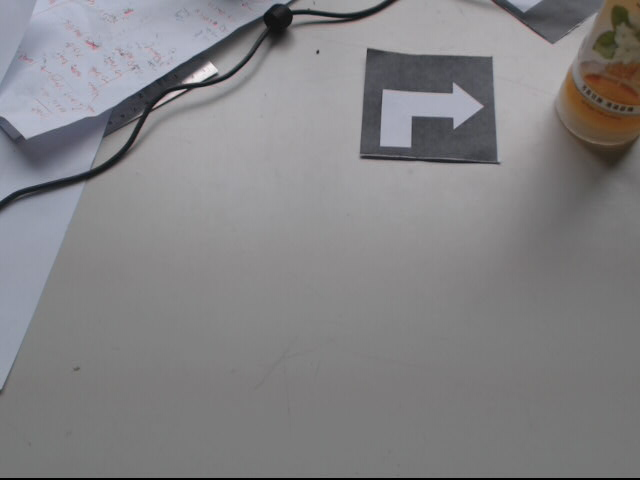right: (360, 47, 496, 164)
